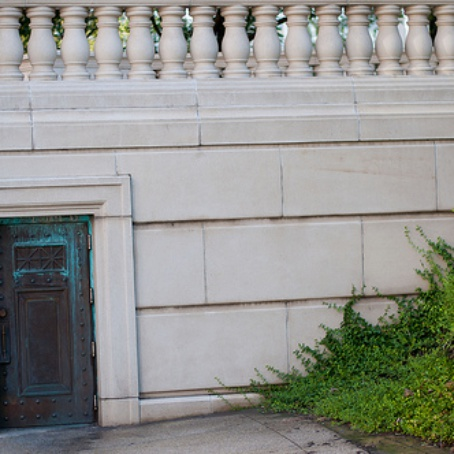door: (1, 201, 109, 440)
